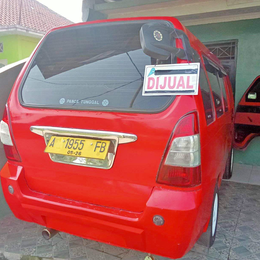plate: (45, 130, 112, 161)
